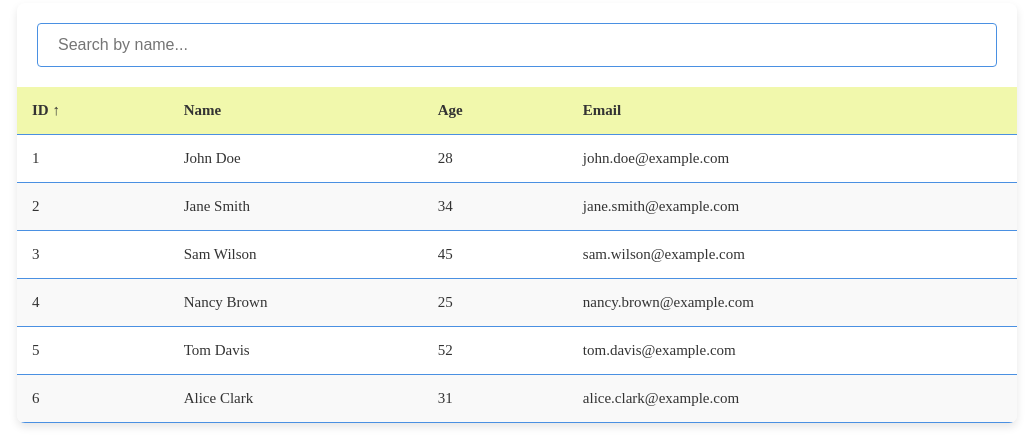
Scenario: Grid Component › should search the table by Name
Type "Jane" into the field with placeholder "Search by name..." at x=517, y=45, box [37,23,997,67]
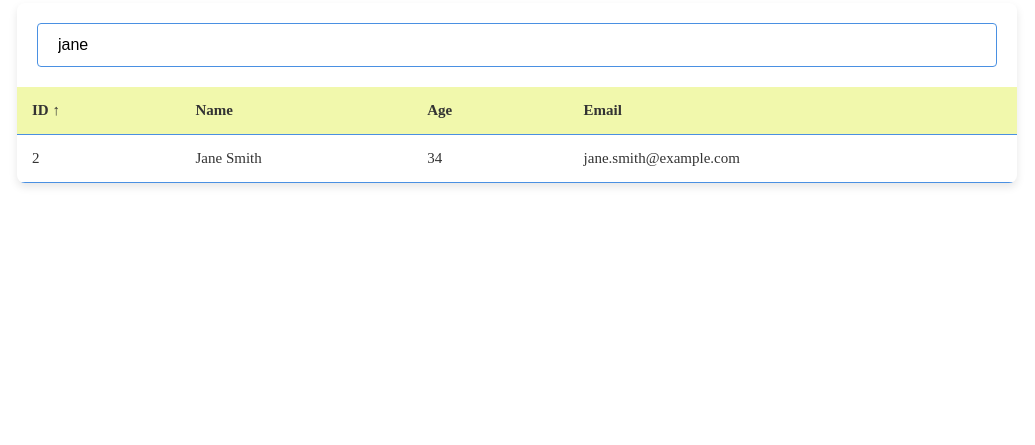
Expected: the cell with test id "rowItem" reads "Jane Smith", [195,150,261,166]
Now the number of rows with test id "grid-table-row" is 1, box [17,135,1017,183]
Replace the text in the field with "abc" at x=517, y=45, box [37,23,997,67]
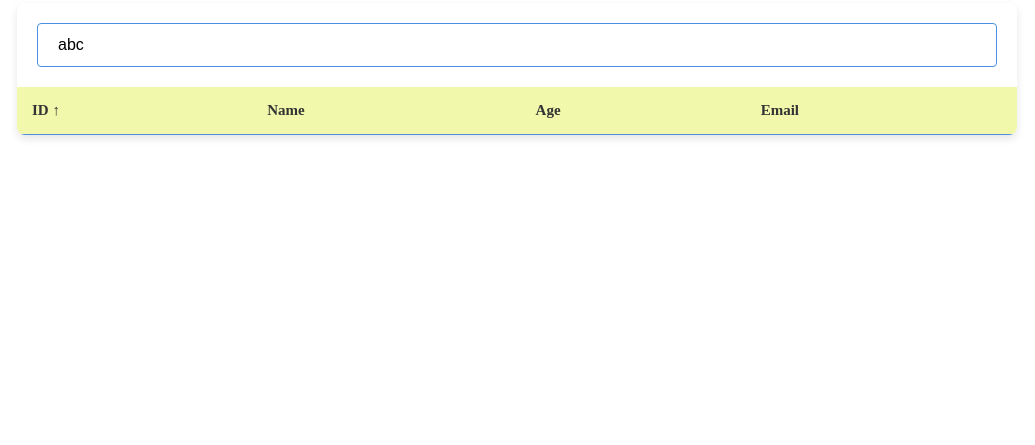
Now no rows with test id "grid-table-row" are shown
